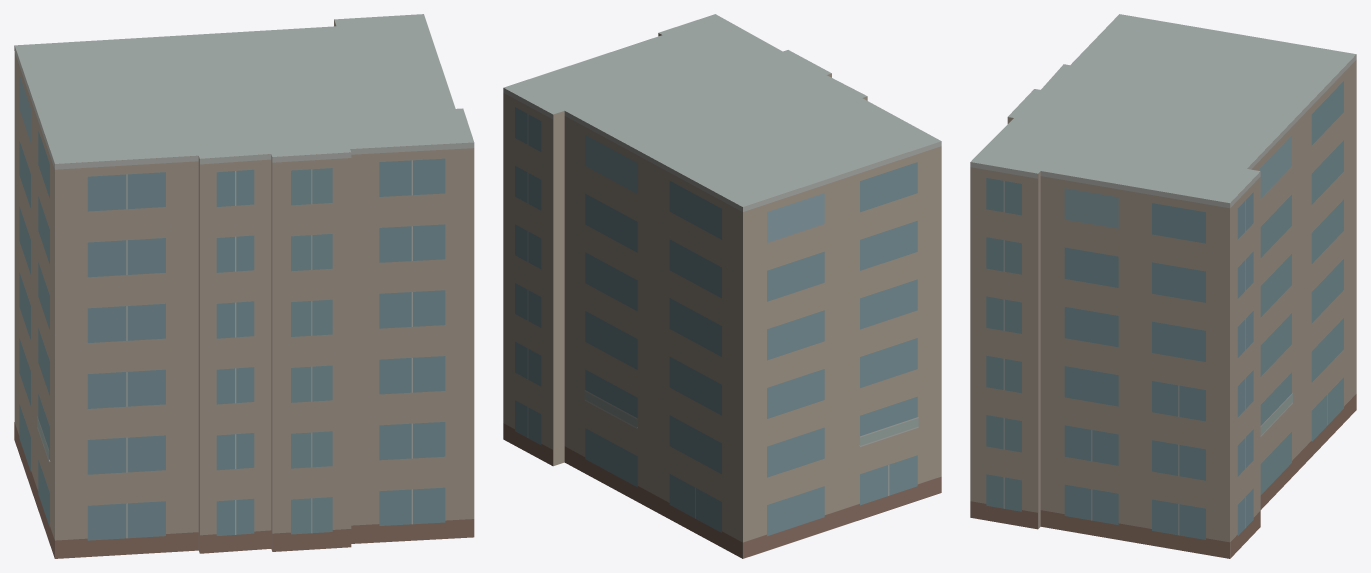
Rendered from survey-upis-32970811.glb.
The picture shows the model from 3 angles, left to right: view 1: azimuth 30°, elevation 25°; view 2: azimuth 150°, elevation 25°; view 3: azimuth 270°, elevation 25°; orthographic projection. The views are drawn at different scales.
Parts seen in each view (by area): view 1: survey-upis-32970811.tmp; view 2: survey-upis-32970811.tmp; view 3: survey-upis-32970811.tmp.
Part boxes in pixels (x1,y1,x2,y2): survey-upis-32970811.tmp: (14, 14, 474, 558); survey-upis-32970811.tmp: (503, 14, 941, 558); survey-upis-32970811.tmp: (970, 14, 1356, 558).
Size of the model in its own units: 19.52 by 17.1 by 16.84.
